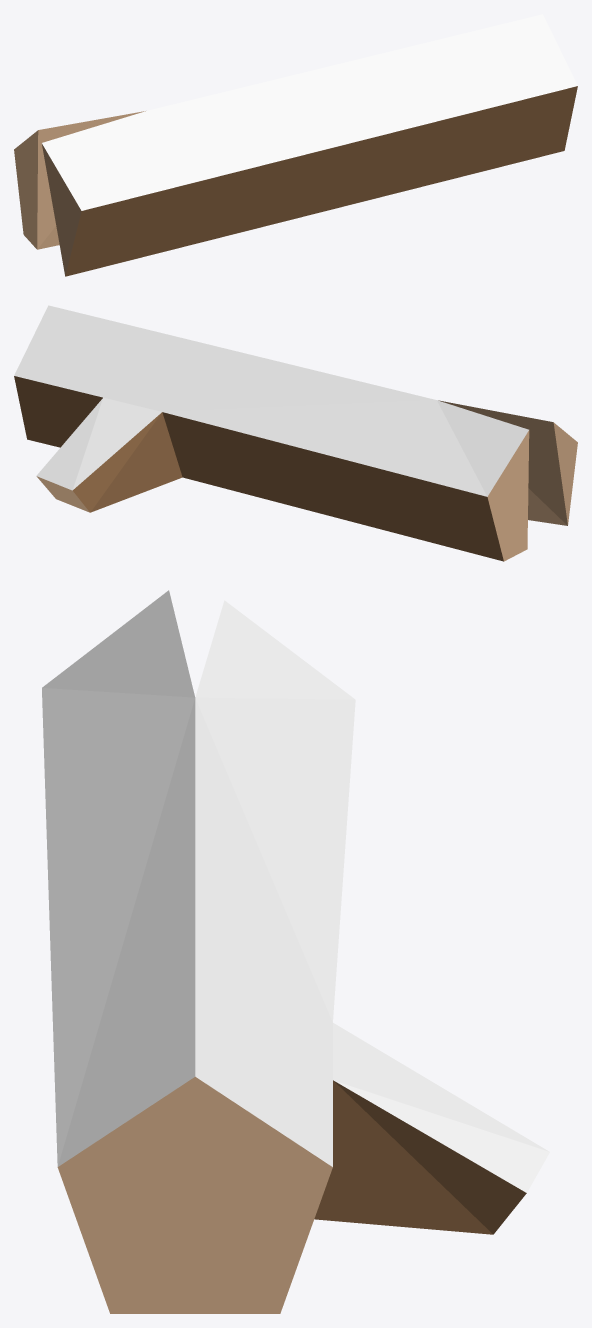
The model's file is Pine_Firewood_Snow_04_LOD.fbx.
3 renders of one model, top to bottom at view 1: azimuth 30°, elevation 25°; view 2: azimuth 150°, elevation 25°; view 3: azimuth 270°, elevation 25°, orthographic. The views are drawn at different scales.
Parts seen in each view (by area): view 1: Pine_Firewood_Snow_04_LOD0; view 2: Pine_Firewood_Snow_04_LOD0; view 3: Pine_Firewood_Snow_04_LOD0.
Boxes of the visible parts, x1,y1,x2,y2 form: Pine_Firewood_Snow_04_LOD0: (14, 14, 577, 276); Pine_Firewood_Snow_04_LOD0: (14, 305, 577, 561); Pine_Firewood_Snow_04_LOD0: (42, 590, 549, 1313).
Size of what is drawn, in the model's own units: 55.23 by 12.61 by 24.38.
